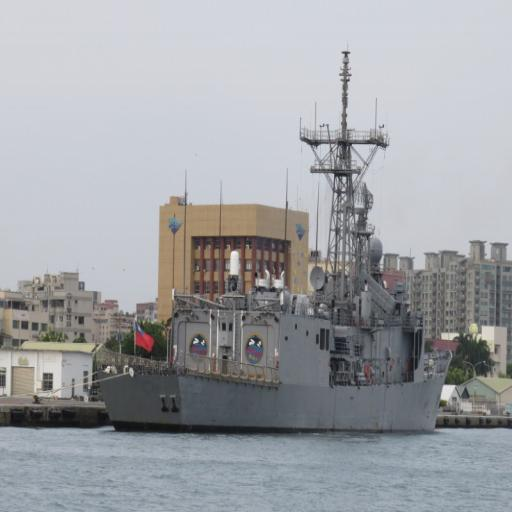Fragata: (91, 40, 458, 436)
